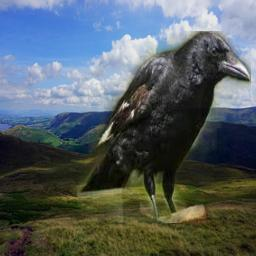Crow: (77, 31, 251, 223)
